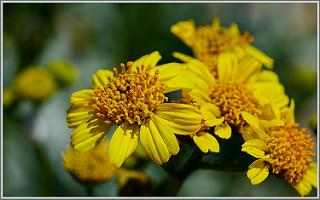sunflower: (69, 53, 205, 163), (172, 51, 296, 150), (244, 113, 316, 196), (170, 19, 276, 66)
